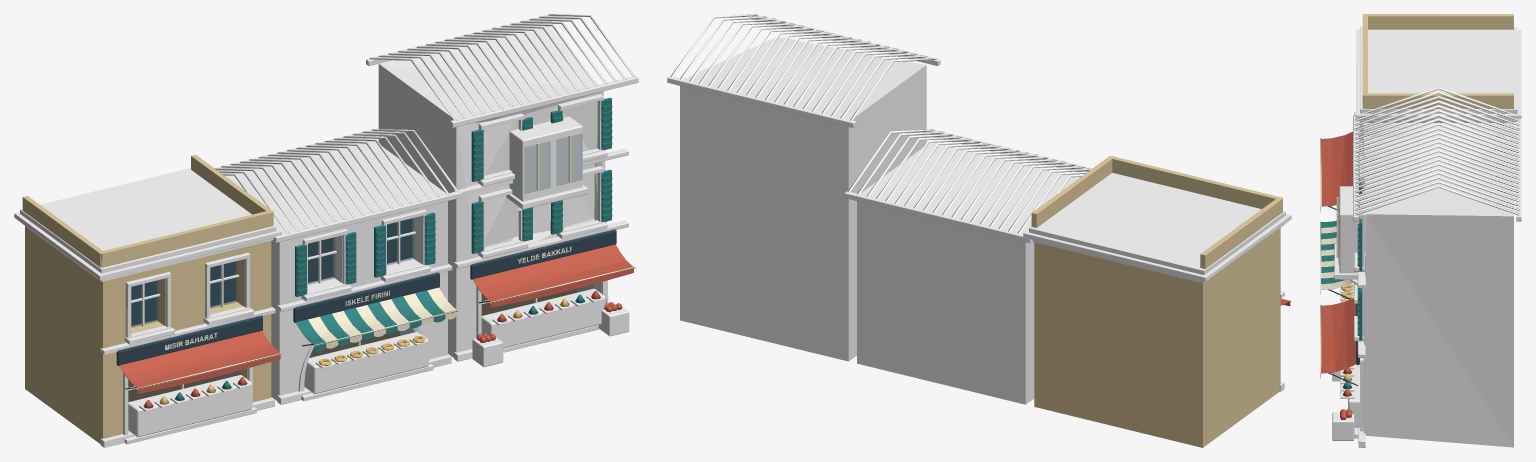
Rendered from DistrictBlock_1_0_LOD1.glb.
3 views of the same model, side by side, from view 1: azimuth 30°, elevation 25°; view 2: azimuth 150°, elevation 25°; view 3: azimuth 270°, elevation 25° (orthographic). The views are drawn at different scales.
Visible parts, largest first — view 1: RK_DistrictBlock_1_0_LOD1_LC_Lime, RK_DistrictBlock_1_0_LOD1_LC_Ochre, RK_DistrictBlock_1_0_LOD1_LC_Coral, RK_DistrictBlock_1_0_LOD1_LC_Wood, RK_DistrictBlock_1_0_LOD1_LC_Cream, RK_DistrictBlock_1_0_LOD1_LC_Tile, RK_DistrictBlock_1_0_LOD1_LC_Red, RK_DistrictBlock_1_0_LOD1_LC_Ink, RK_DistrictBlock_1_0_LOD1_LC_Teal, RK_DistrictBlock_1_0_LOD1_LC_Glass, RK_DistrictBlock_1_0_LOD1_LC_Canvas, RK_DistrictBlock_1_0_LOD1_LC_Interior (+1 smaller); view 2: RK_DistrictBlock_1_0_LOD1_LC_Coral, RK_DistrictBlock_1_0_LOD1_LC_Ochre, RK_DistrictBlock_1_0_LOD1_LC_Cream, RK_DistrictBlock_1_0_LOD1_LC_Lime, RK_DistrictBlock_1_0_LOD1_LC_Tile, RK_DistrictBlock_1_0_LOD1_LC_Wood; view 3: RK_DistrictBlock_1_0_LOD1_LC_Coral, RK_DistrictBlock_1_0_LOD1_LC_Lime, RK_DistrictBlock_1_0_LOD1_LC_Tile, RK_DistrictBlock_1_0_LOD1_LC_Ochre, RK_DistrictBlock_1_0_LOD1_LC_Red, RK_DistrictBlock_1_0_LOD1_LC_Wood, RK_DistrictBlock_1_0_LOD1_LC_Teal, RK_DistrictBlock_1_0_LOD1_LC_Canvas, RK_DistrictBlock_1_0_LOD1_LC_Cream, RK_DistrictBlock_1_0_LOD1_LC_Gold.
Boxes of the visible parts, x1,y1,x2,y2 form: RK_DistrictBlock_1_0_LOD1_LC_Lime: (14,94,628,447); RK_DistrictBlock_1_0_LOD1_LC_Ochre: (22,154,273,443); RK_DistrictBlock_1_0_LOD1_LC_Coral: (378,23,608,357); RK_DistrictBlock_1_0_LOD1_LC_Wood: (128,15,638,437); RK_DistrictBlock_1_0_LOD1_LC_Cream: (225,138,447,400); RK_DistrictBlock_1_0_LOD1_LC_Tile: (214,14,635,235); RK_DistrictBlock_1_0_LOD1_LC_Red: (119,244,633,408); RK_DistrictBlock_1_0_LOD1_LC_Ink: (116,218,616,365); RK_DistrictBlock_1_0_LOD1_LC_Teal: (175,97,612,400); RK_DistrictBlock_1_0_LOD1_LC_Glass: (128,134,593,401); RK_DistrictBlock_1_0_LOD1_LC_Canvas: (136,135,635,389); RK_DistrictBlock_1_0_LOD1_LC_Interior: (128,289,577,401); RK_DistrictBlock_1_0_LOD1_LC_Coral: (680,37,926,361); RK_DistrictBlock_1_0_LOD1_LC_Ochre: (1031,156,1282,447); RK_DistrictBlock_1_0_LOD1_LC_Cream: (857,139,1080,404); RK_DistrictBlock_1_0_LOD1_LC_Lime: (782,37,1291,391); RK_DistrictBlock_1_0_LOD1_LC_Tile: (670,14,1091,233); RK_DistrictBlock_1_0_LOD1_LC_Wood: (667,15,1092,243); RK_DistrictBlock_1_0_LOD1_LC_Coral: (1363,137,1513,447); RK_DistrictBlock_1_0_LOD1_LC_Lime: (1334,27,1521,447); RK_DistrictBlock_1_0_LOD1_LC_Tile: (1354,87,1519,215); RK_DistrictBlock_1_0_LOD1_LC_Ochre: (1362,14,1513,122); RK_DistrictBlock_1_0_LOD1_LC_Red: (1320,131,1356,419); RK_DistrictBlock_1_0_LOD1_LC_Wood: (1332,115,1521,440); RK_DistrictBlock_1_0_LOD1_LC_Teal: (1321,153,1362,388); RK_DistrictBlock_1_0_LOD1_LC_Canvas: (1320,138,1352,374); RK_DistrictBlock_1_0_LOD1_LC_Cream: (1363,123,1513,136); RK_DistrictBlock_1_0_LOD1_LC_Gold: (1341,283,1353,381).
Size of the model in its own units: 19.17 by 9.34 by 6.44.
